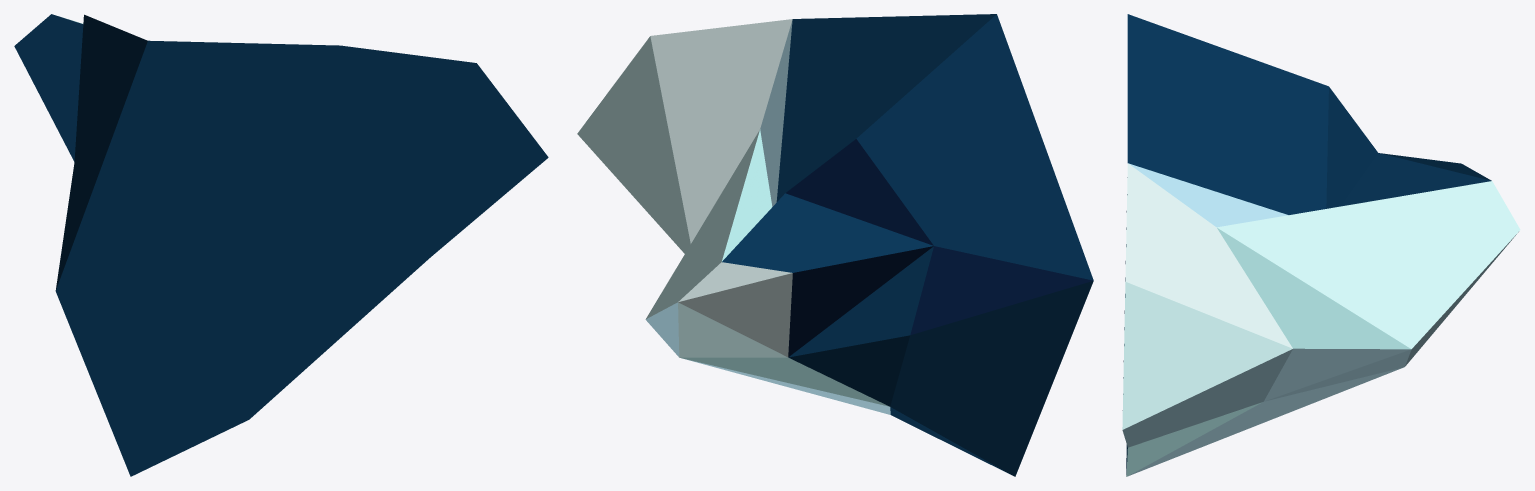
File: winter_middle_rock_1.fbx
3 views of the same model, side by side, from view 1: azimuth 30°, elevation 25°; view 2: azimuth 150°, elevation 25°; view 3: azimuth 270°, elevation 25° (orthographic). The views are drawn at different scales.
Visible parts, largest first — view 1: winter_middle_rock_1; view 2: winter_middle_rock_1; view 3: winter_middle_rock_1.
Boxes of the visible parts, bbox=[...] form: winter_middle_rock_1: bbox=[14, 14, 548, 476]; winter_middle_rock_1: bbox=[577, 14, 1093, 476]; winter_middle_rock_1: bbox=[1122, 14, 1520, 476].
Bounding box in the file's own units: 324 × 273 × 223.
